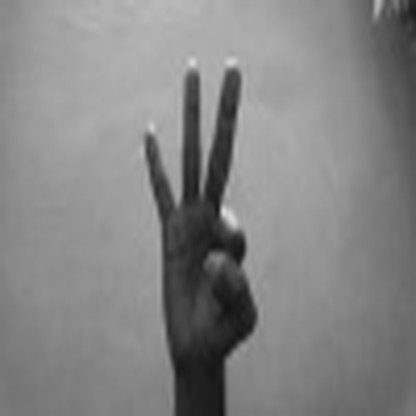f: (124, 44, 277, 353)
